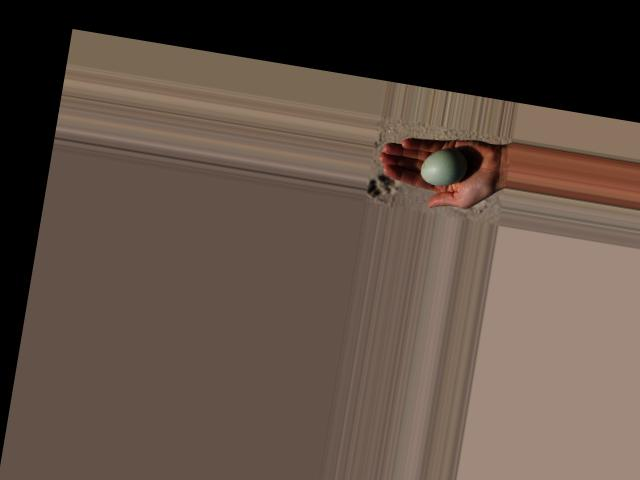egg: (417, 144, 468, 188)
